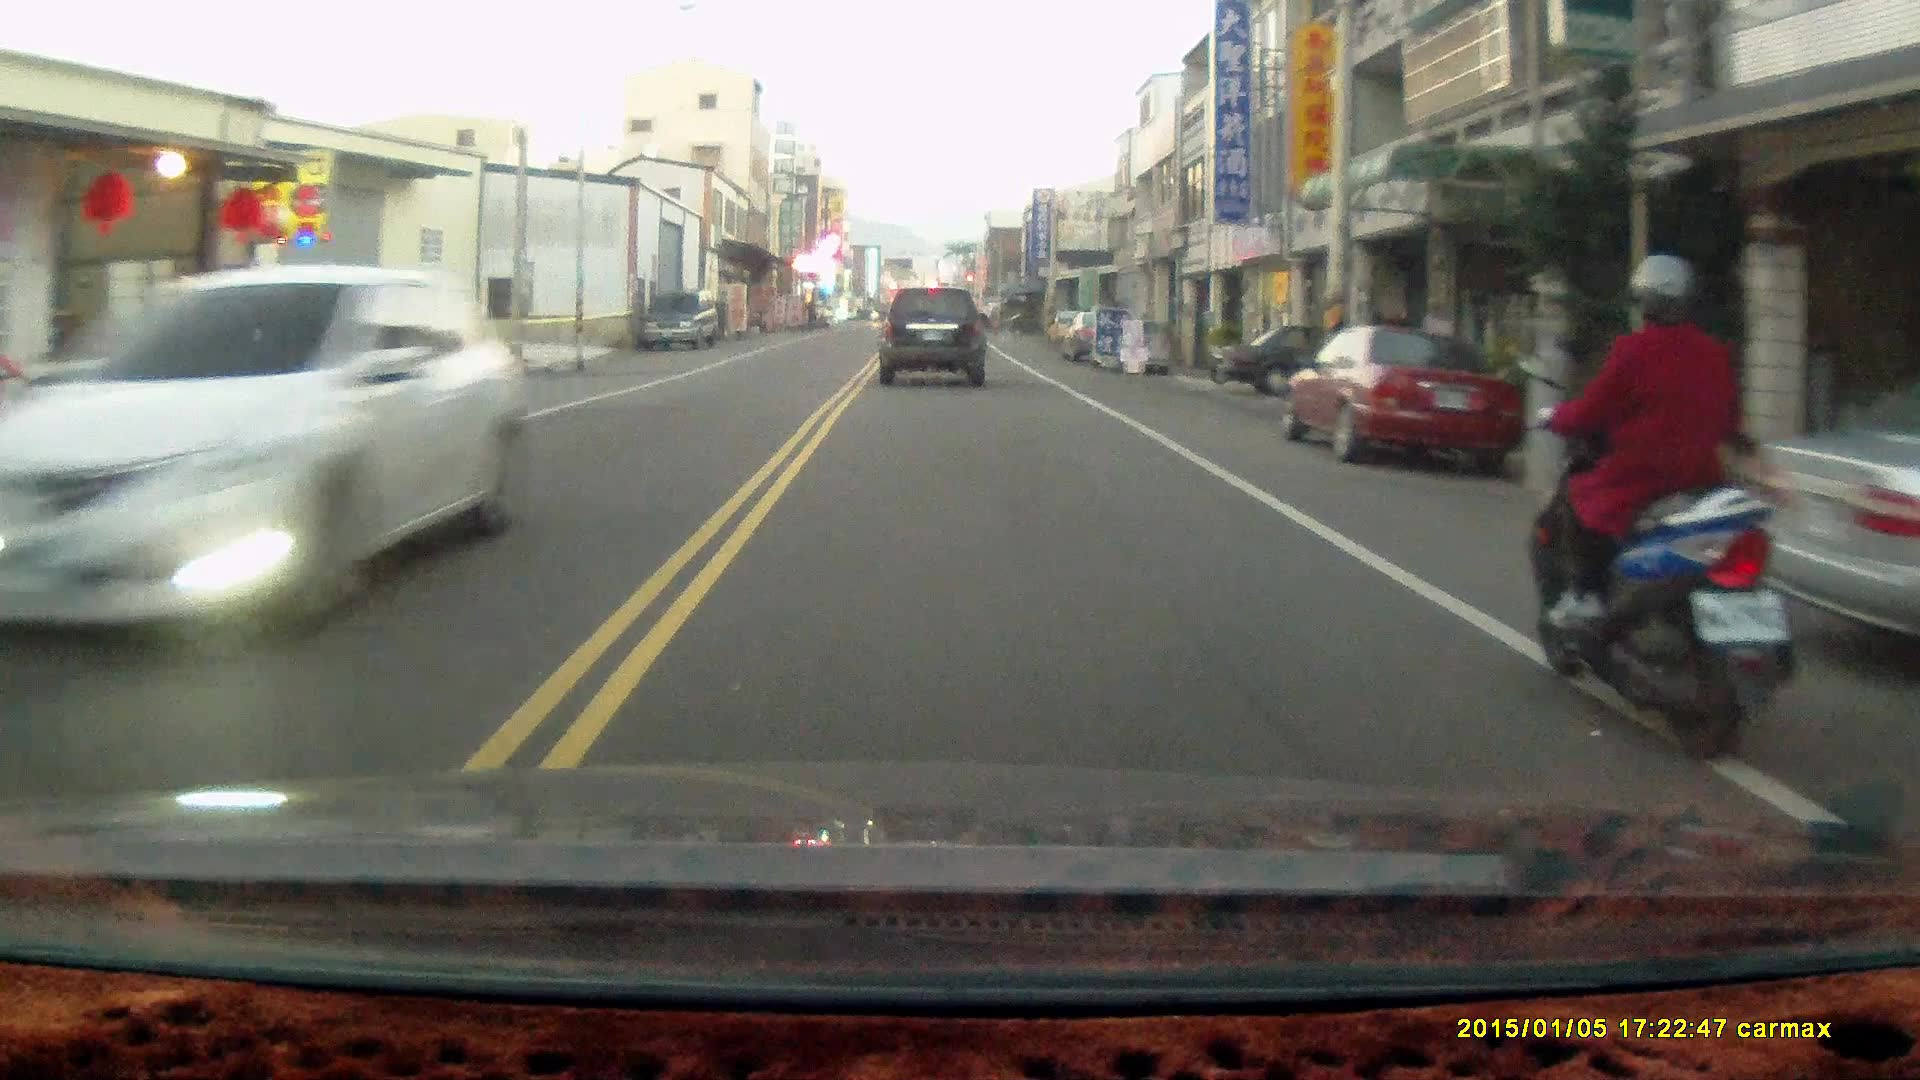rider: (1525, 243, 1806, 772)
vehicle: (7, 262, 540, 650), (1737, 340, 1920, 679), (1287, 314, 1526, 475), (1211, 323, 1422, 397), (880, 278, 990, 384), (642, 289, 722, 352)
